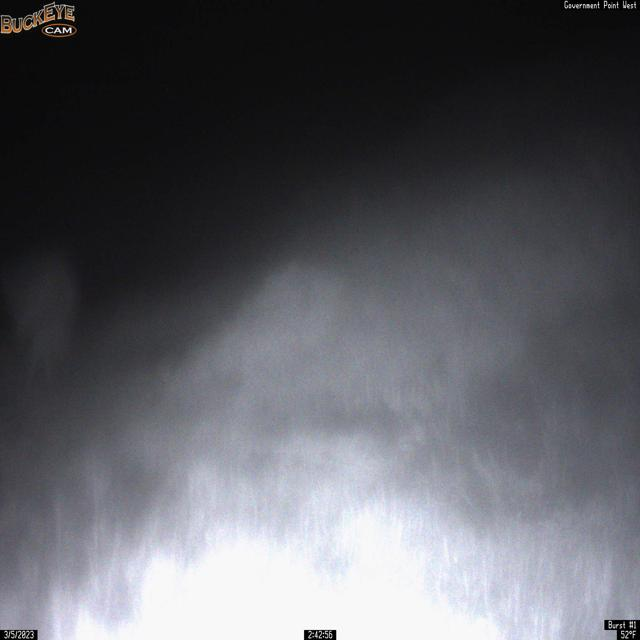coyote: (5, 239, 80, 382)
